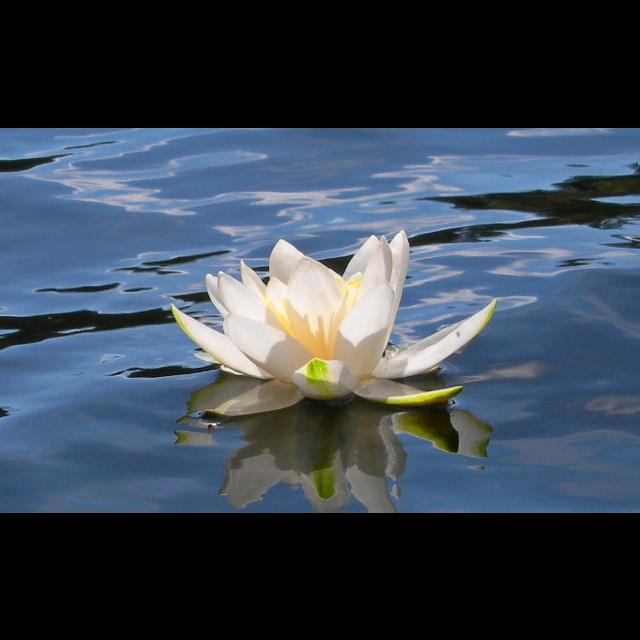Flower: (148, 224, 504, 466)
